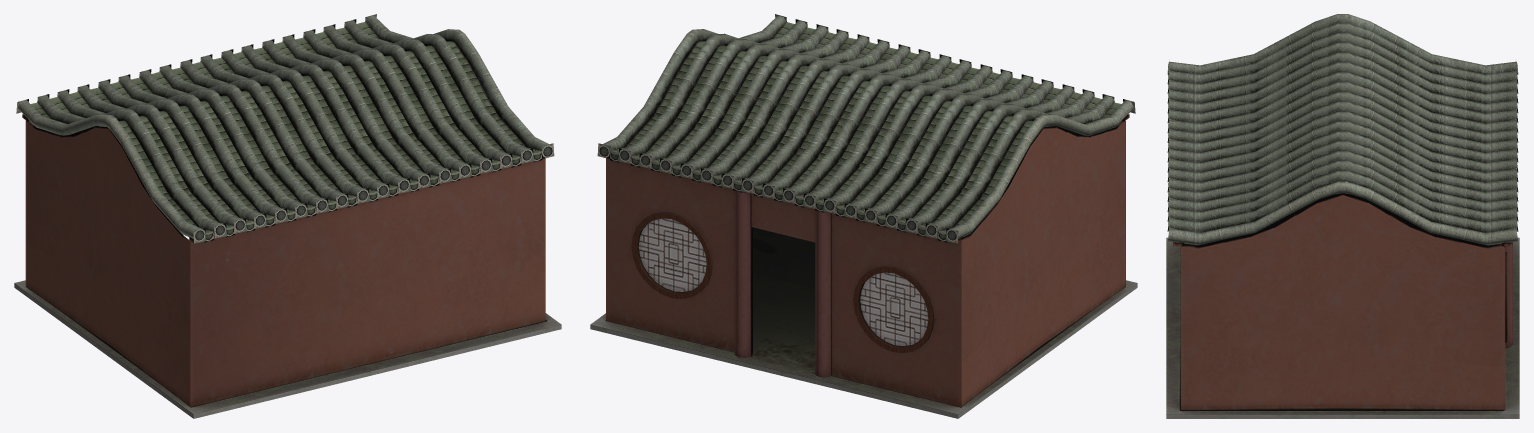
The model's file is NNJ0110012.fbx.
The picture shows the model from 3 angles, left to right: view 1: azimuth 30°, elevation 25°; view 2: azimuth 150°, elevation 25°; view 3: azimuth 270°, elevation 25°; orthographic projection.
Parts seen in each view (by area): view 1: smNNJ0110012; view 2: smNNJ0110012; view 3: smNNJ0110012.
Boxes of the visible parts, box(x1,y1,x2,y2) form: smNNJ0110012: box(14, 14, 561, 418); smNNJ0110012: box(590, 14, 1137, 418); smNNJ0110012: box(1166, 14, 1519, 418).
Bounding box in the file's own units: 837 × 510 × 707.
Materials: 1 (1 with a texture image).
